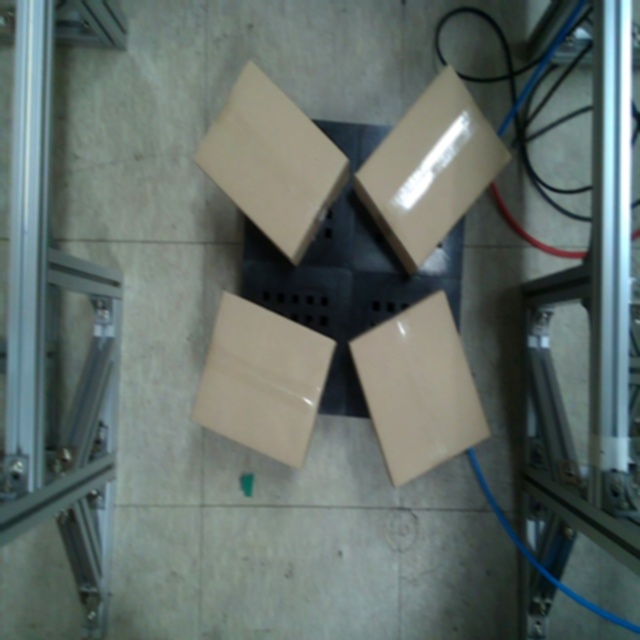box: (351, 63, 515, 269), (188, 59, 351, 260), (345, 286, 492, 489), (188, 287, 338, 470)
